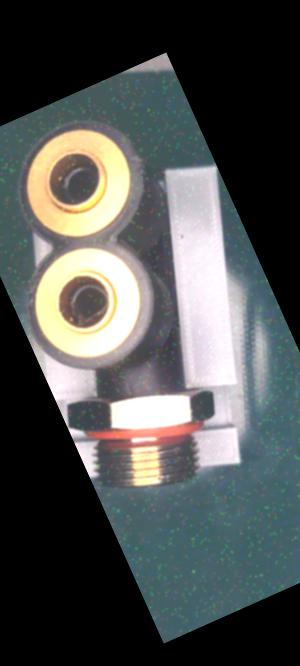off-centered: (59, 273, 121, 332)
white mark: (119, 372, 144, 400)
